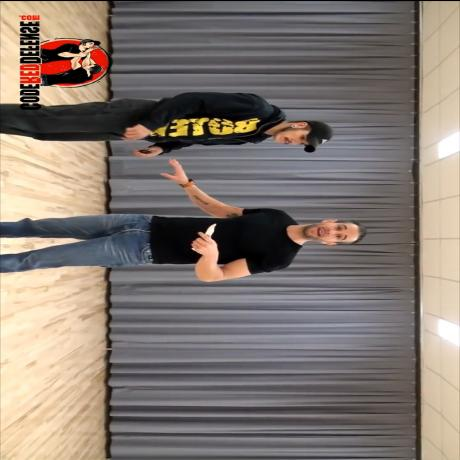1: (0, 172, 368, 282), (4, 91, 338, 154)
weapon: (196, 219, 222, 239)
